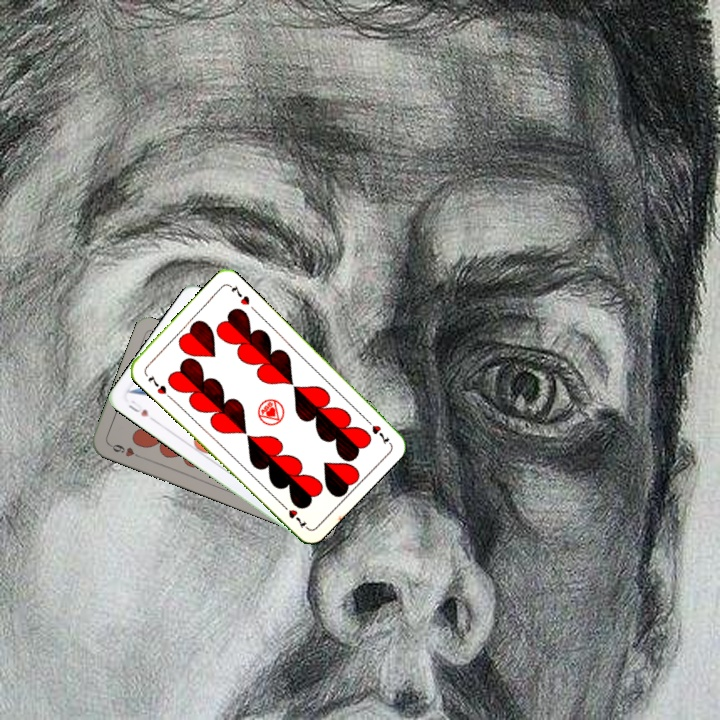H7: (360, 414, 392, 447), (144, 371, 173, 401)
H9: (105, 440, 144, 461)
HU: (124, 396, 158, 424)
